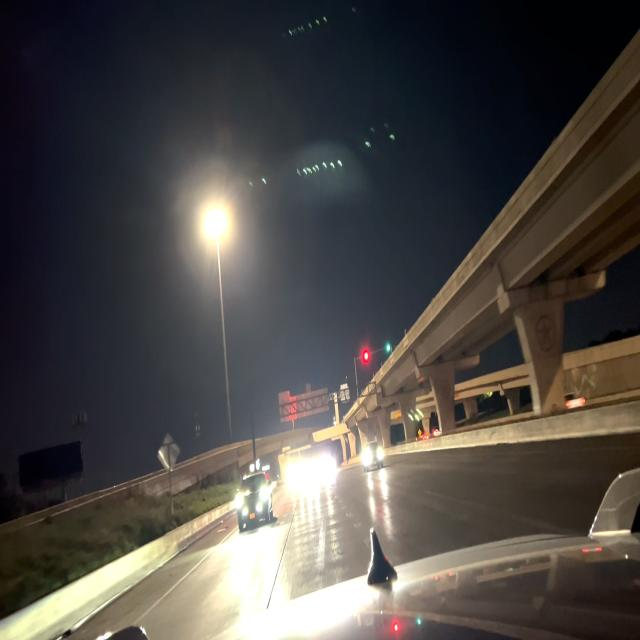back-of-sign: (158, 431, 180, 475)
